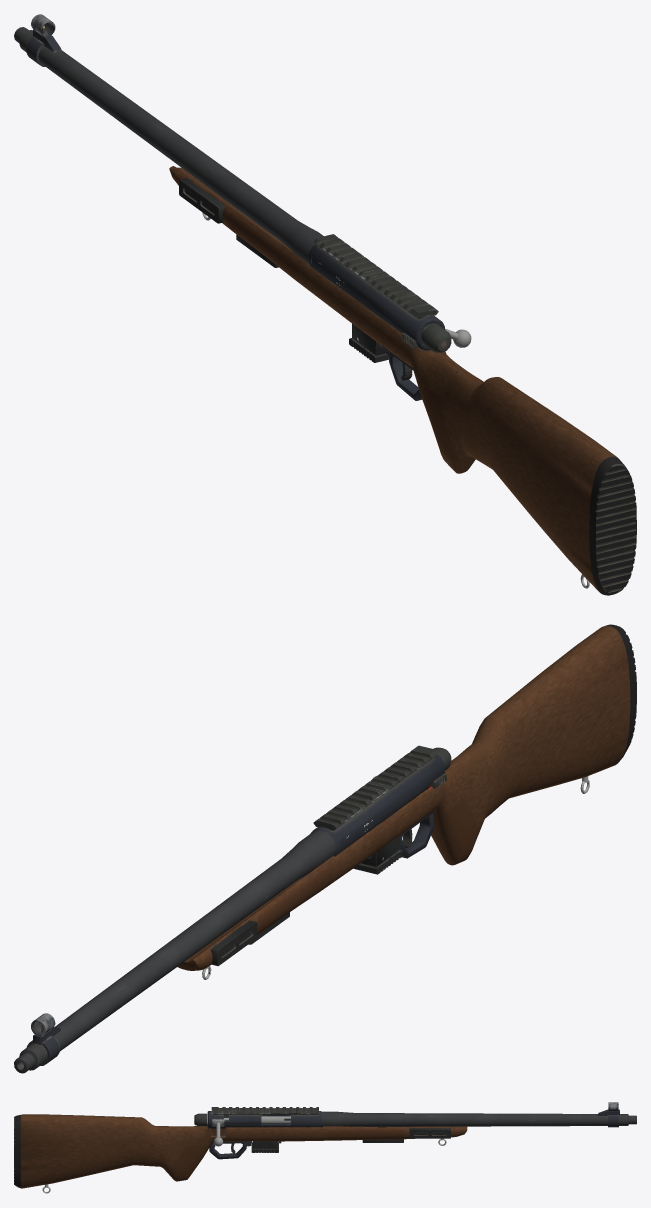
File: rifle_22_leve.glb
3 views of the same model, one above another, from view 1: azimuth 30°, elevation 25°; view 2: azimuth 150°, elevation 25°; view 3: azimuth 270°, elevation 25° (orthographic). The views are drawn at different scales.
Parts seen in each view (by area): view 1: rifle_22_leve; view 2: rifle_22_leve; view 3: rifle_22_leve.
Boxes of the visible parts, x1,y1,x2,y2 form: rifle_22_leve: (14, 14, 636, 595); rifle_22_leve: (14, 624, 636, 1073); rifle_22_leve: (14, 1102, 636, 1193).
Bounding box in the file's own units: 0.0628 × 0.1491 × 0.9287.
Materials: 1 (1 with a texture image).
